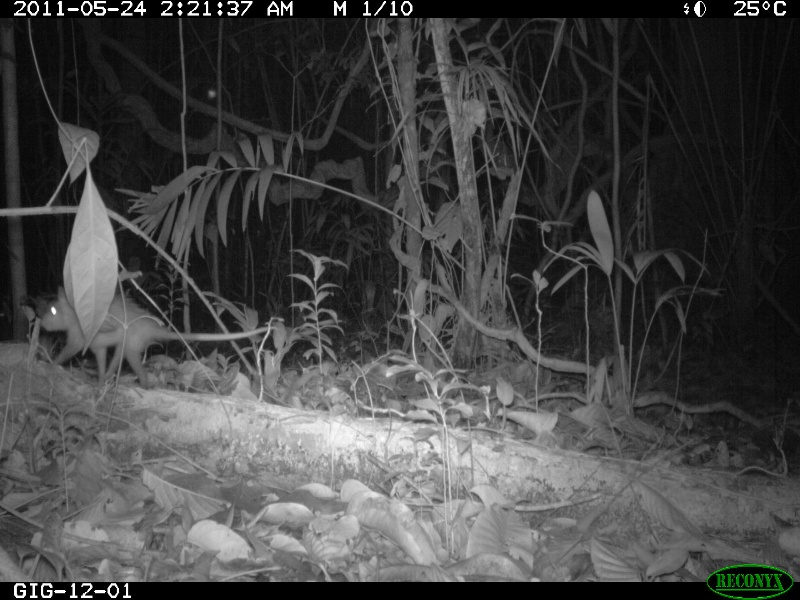opossum: (38, 289, 278, 394)
